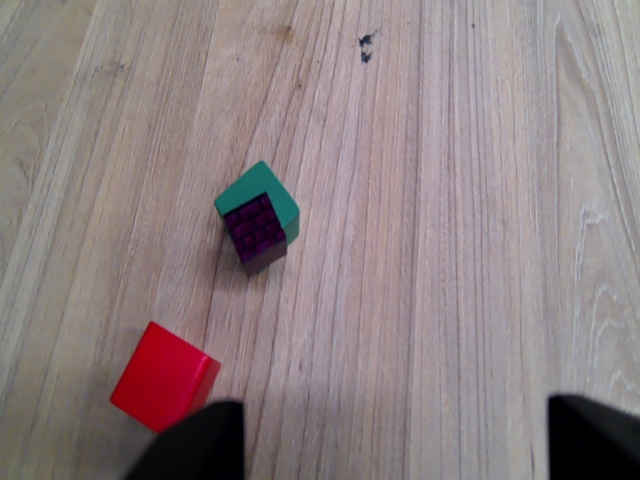brick: (215, 191, 290, 280)
